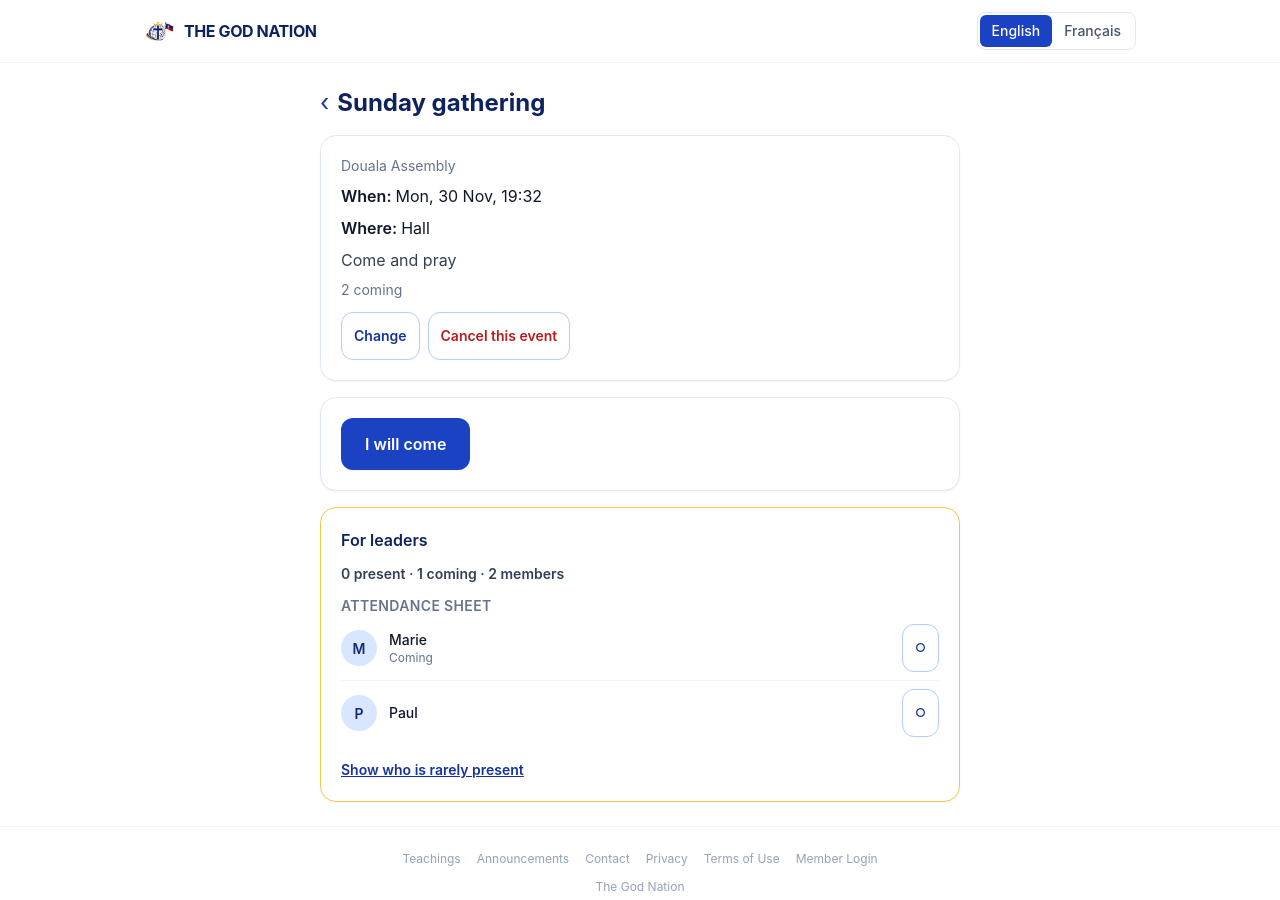
Test case: One event › gives a leader an attendance sheet they can tick
Check: the text "Marie" is shown, box [389,631,427,648]
Click the button named "Mark present: Marie": click(920, 648) [902,624,939,672]
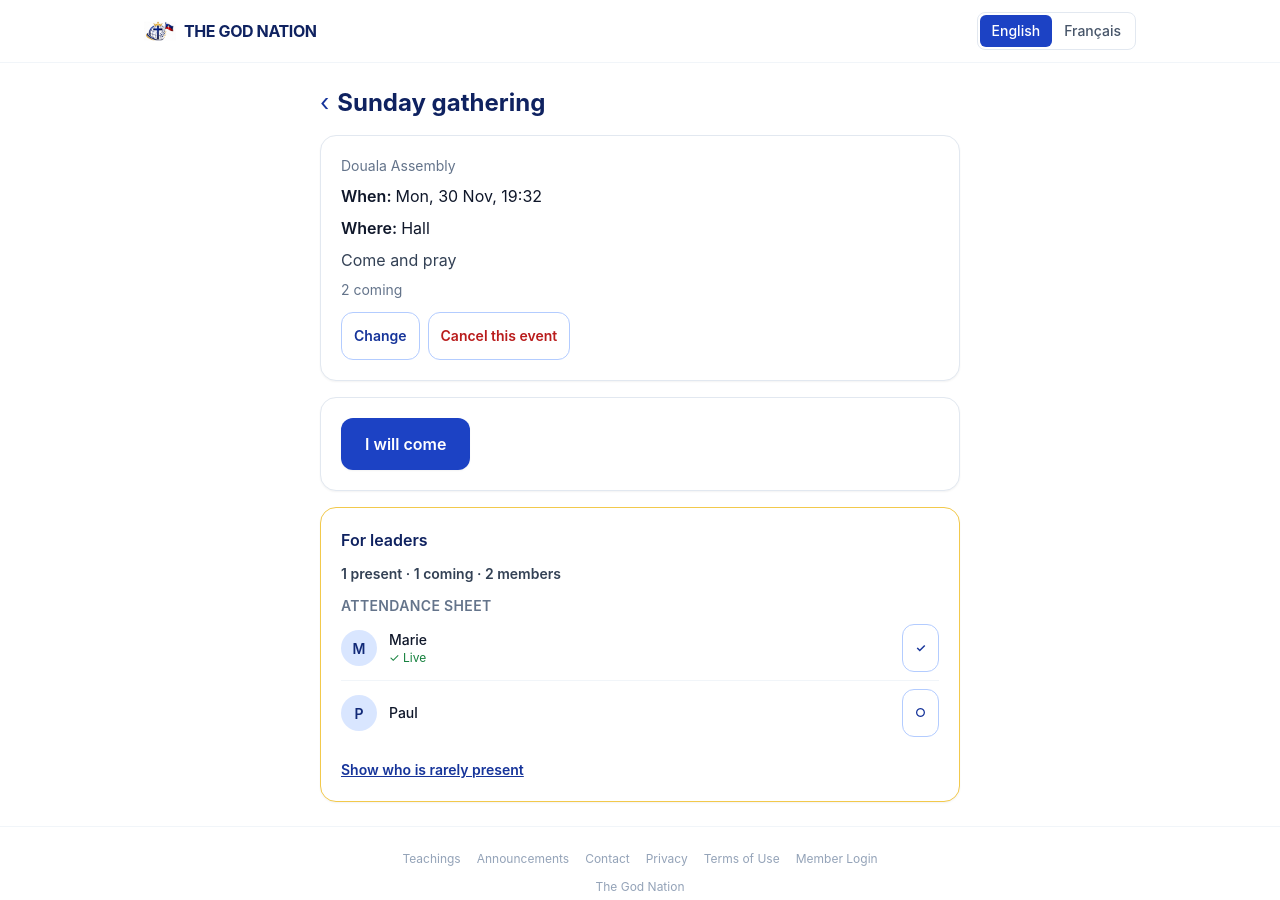
Check: the button named "Remove mark: Marie" is shown, box [902,624,939,672]
